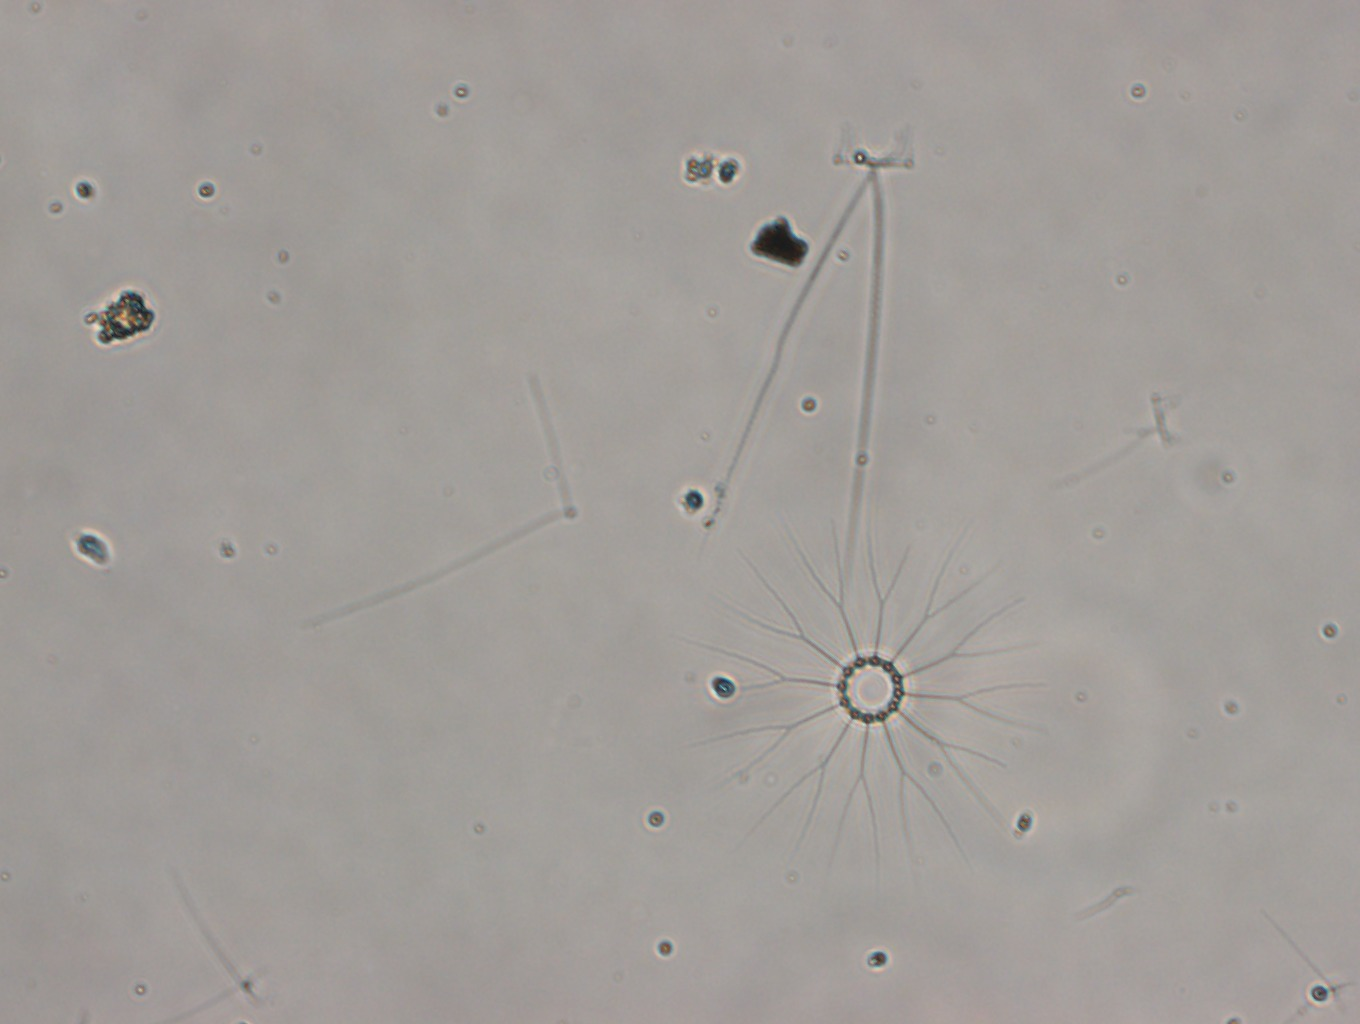bacteriastrum: (685, 515, 1061, 888)
chaetoceros: (690, 111, 919, 579)
